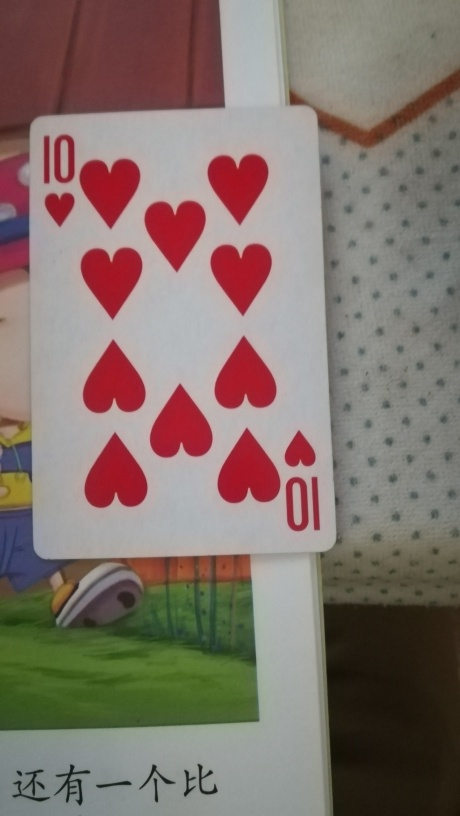hx 10: (19, 101, 341, 560)
